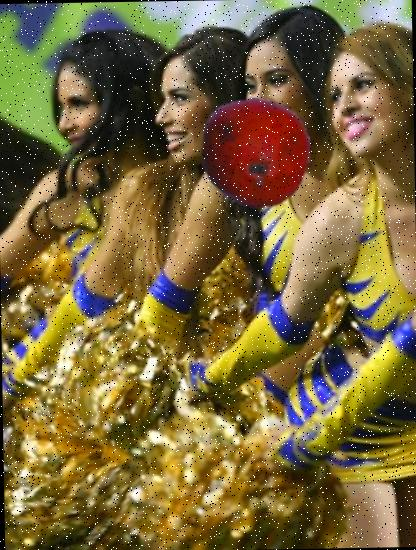Pomegranate: (198, 96, 311, 209)
